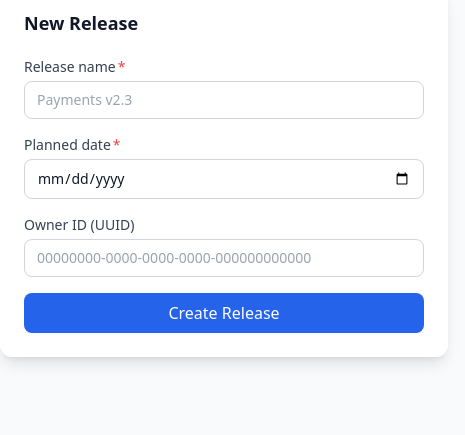
ReleaseForm — create mode › shows error for invalid owner UUID
Type "My Release" into the field labelled "Release name*". click: (224, 100)
box: [24,81,424,119]
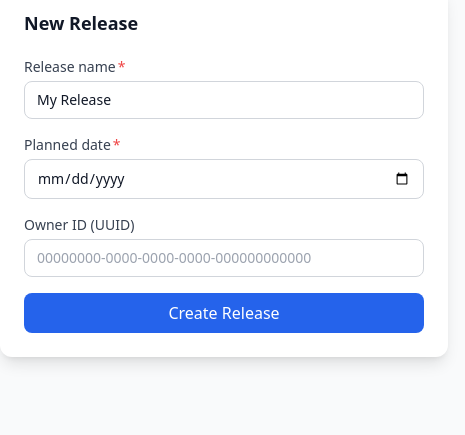
Type "2026-07-08" into the date field labelled "Planned date*". click: (224, 179)
box: [24,159,424,199]
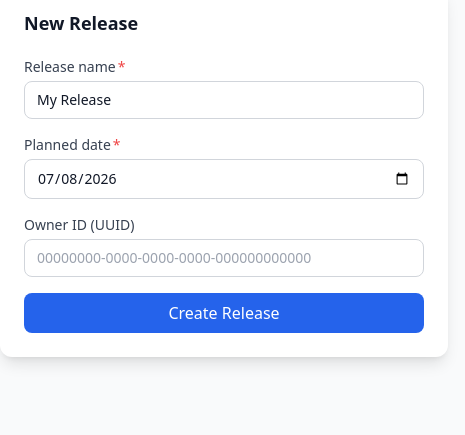
Type "not-a-uuid" into the field labelled "Owner ID (UUID)". click: (224, 258)
box: [24,239,424,277]
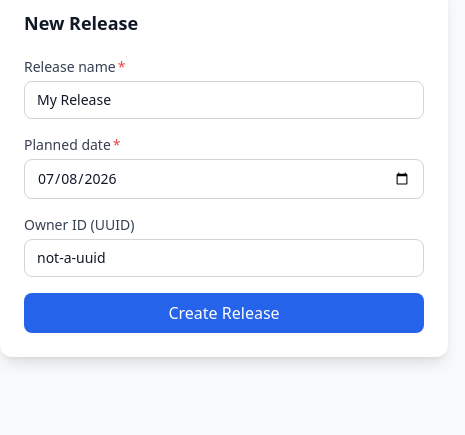
Click the button "Create Release". click: (224, 313)
box: [24,293,424,333]
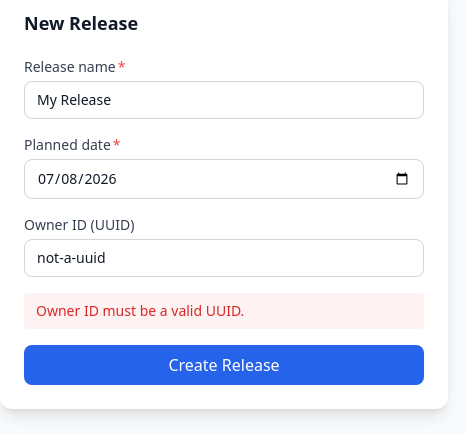
Result: the message shows "UUID" at [36,301,244,320]
